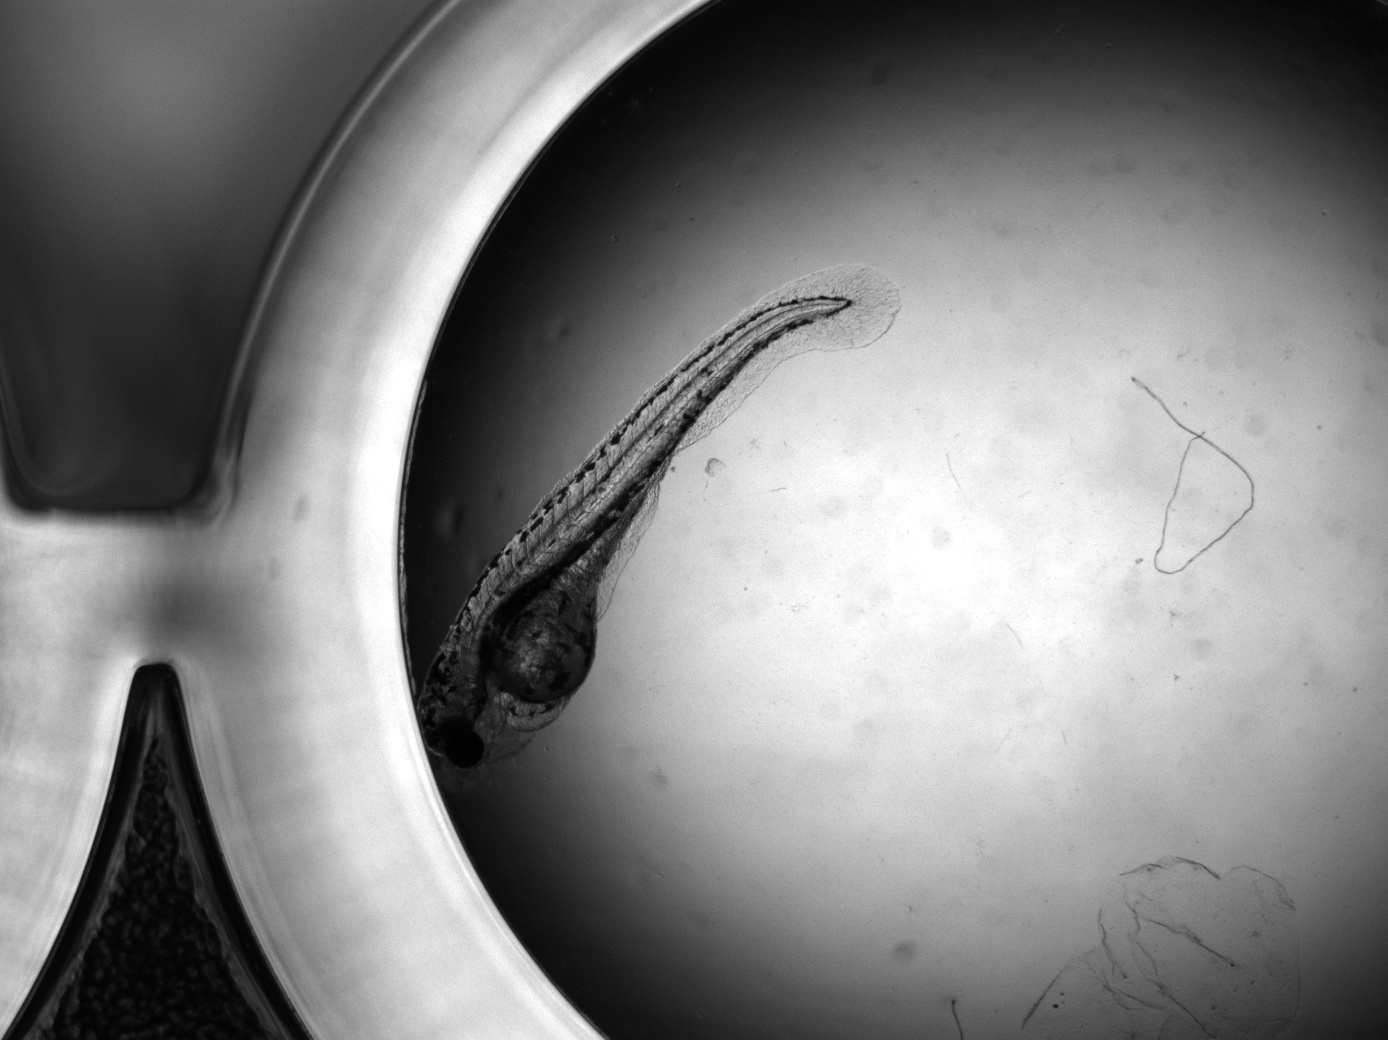debris: (1021, 852, 1306, 1040), (1130, 371, 1258, 575)
embryo: (417, 297, 853, 769)
eye: (444, 730, 484, 769)
yolksac: (477, 478, 653, 733)
